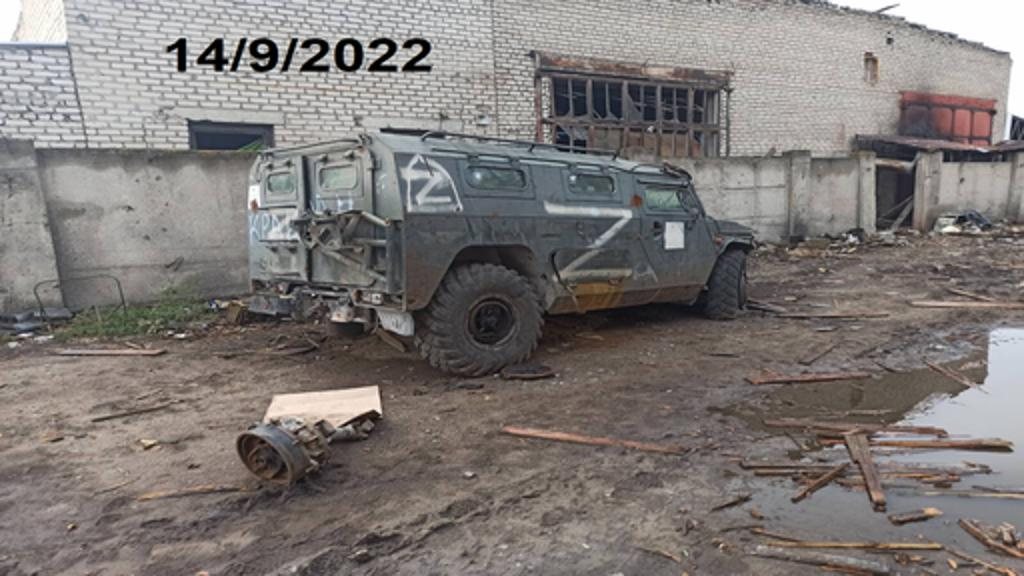CAR: (244, 130, 752, 372)
